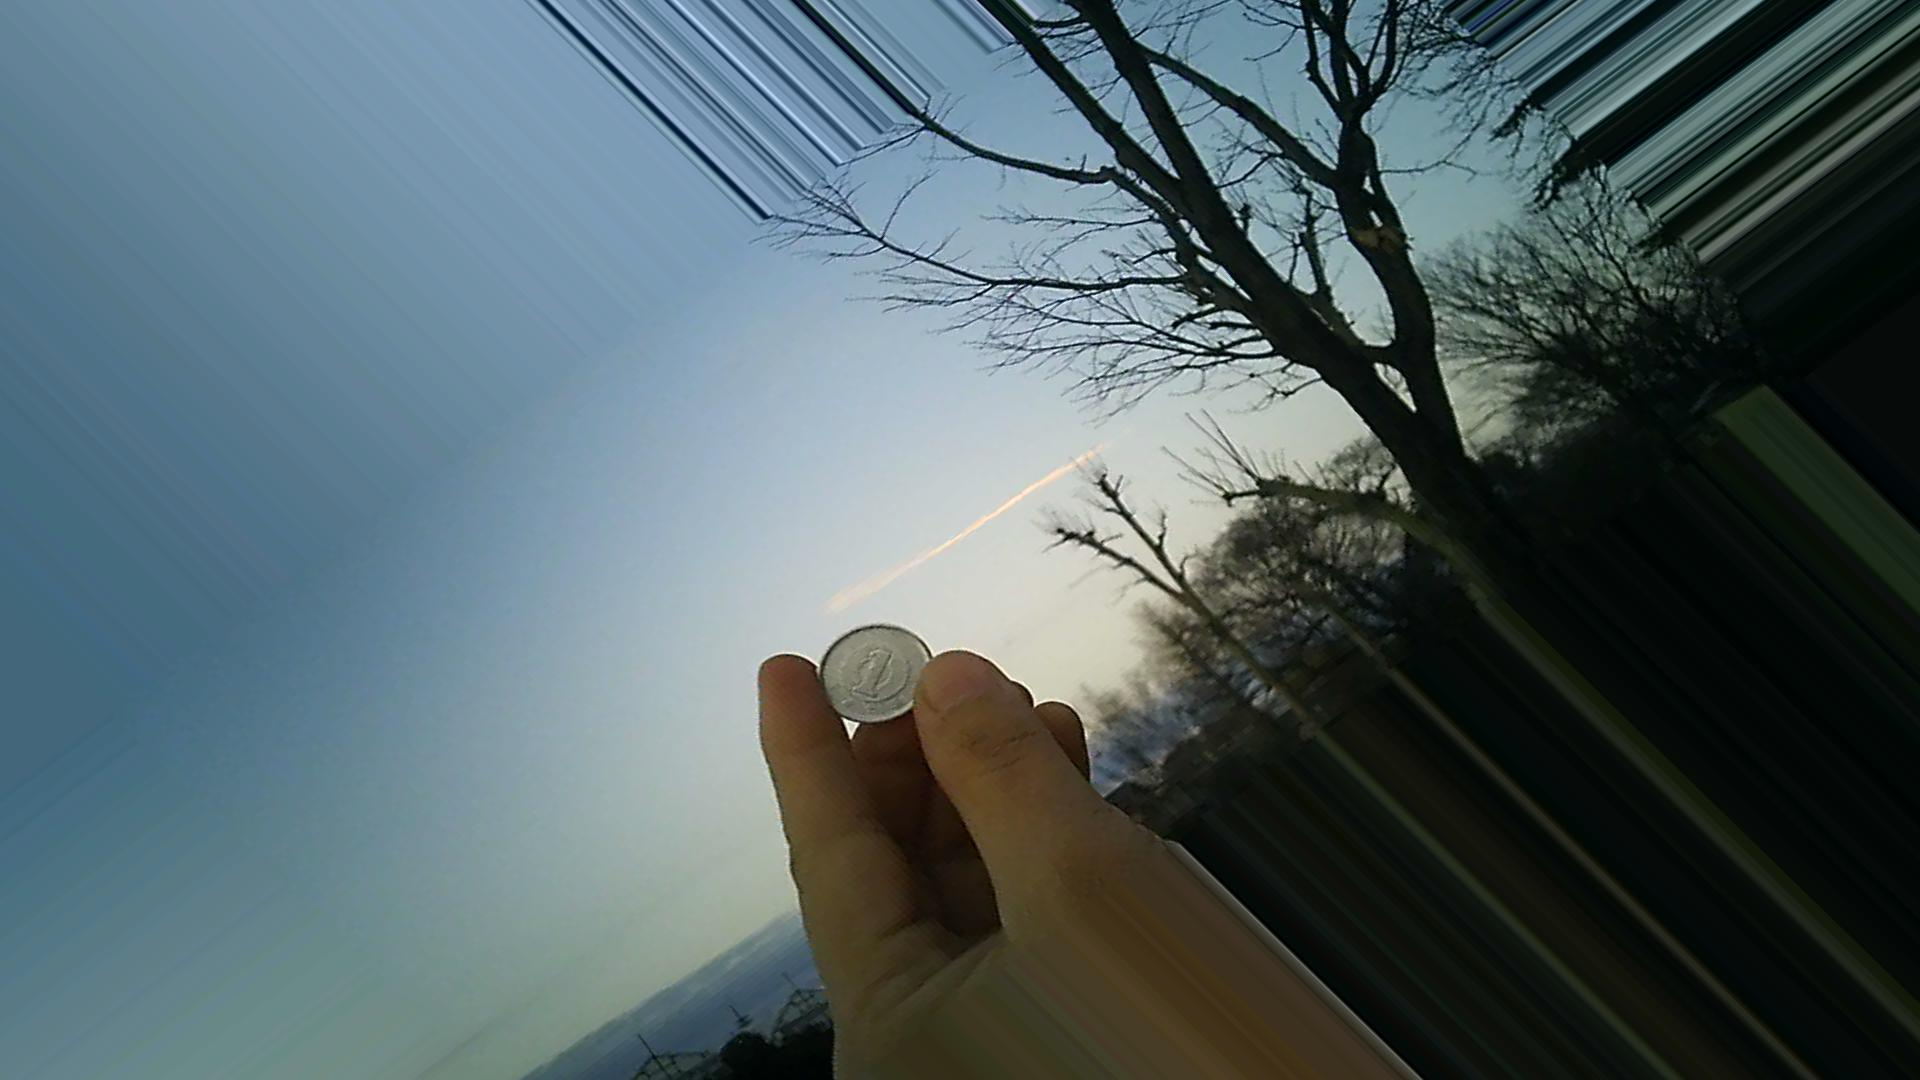1 Yen: (799, 611, 947, 741)
